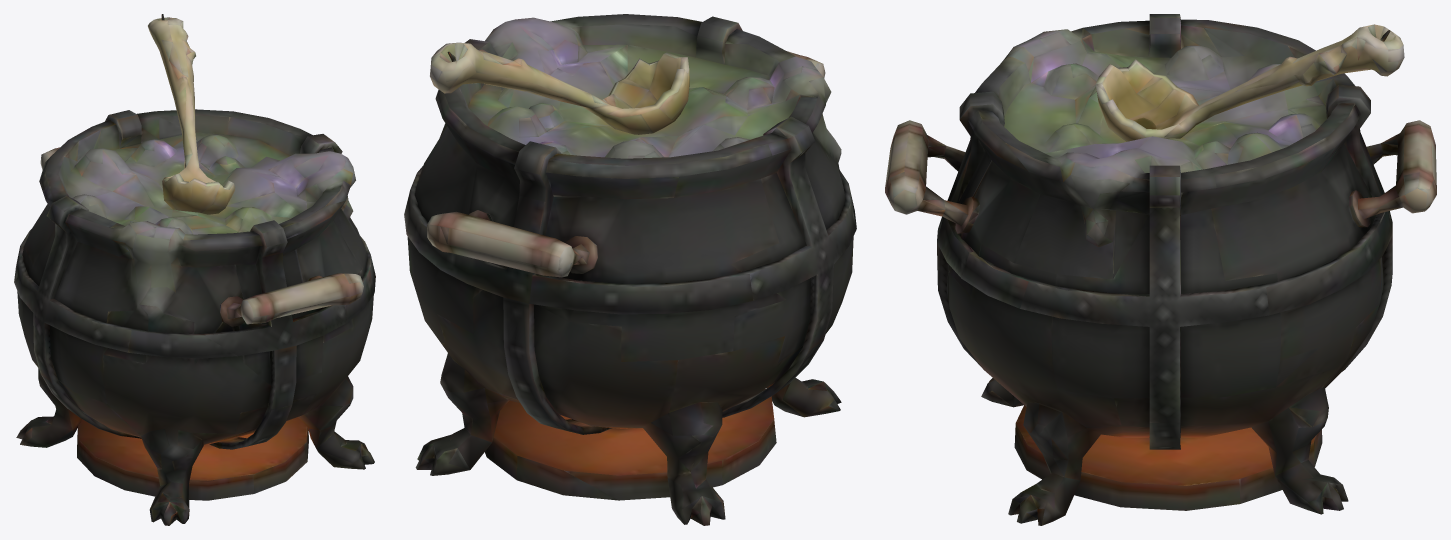
Rendered from alch_cauldron.glb.
3 renders of one model, left to right at view 1: azimuth 30°, elevation 25°; view 2: azimuth 150°, elevation 25°; view 3: azimuth 270°, elevation 25°, orthographic. The views are drawn at different scales.
Visible parts, largest first — view 1: tripo_node_6cb3825b-5a82-41e7-9443-d1ebe73a70f2; view 2: tripo_node_6cb3825b-5a82-41e7-9443-d1ebe73a70f2; view 3: tripo_node_6cb3825b-5a82-41e7-9443-d1ebe73a70f2.
Part boxes in pixels (<box>): tripo_node_6cb3825b-5a82-41e7-9443-d1ebe73a70f2: <box>14,14,375,525</box>; tripo_node_6cb3825b-5a82-41e7-9443-d1ebe73a70f2: <box>404,14,856,525</box>; tripo_node_6cb3825b-5a82-41e7-9443-d1ebe73a70f2: <box>885,14,1436,525</box>.
Bounding box in the file's own units: 0.8261 × 0.9044 × 0.998.
Materials: 1 (1 with a texture image).
